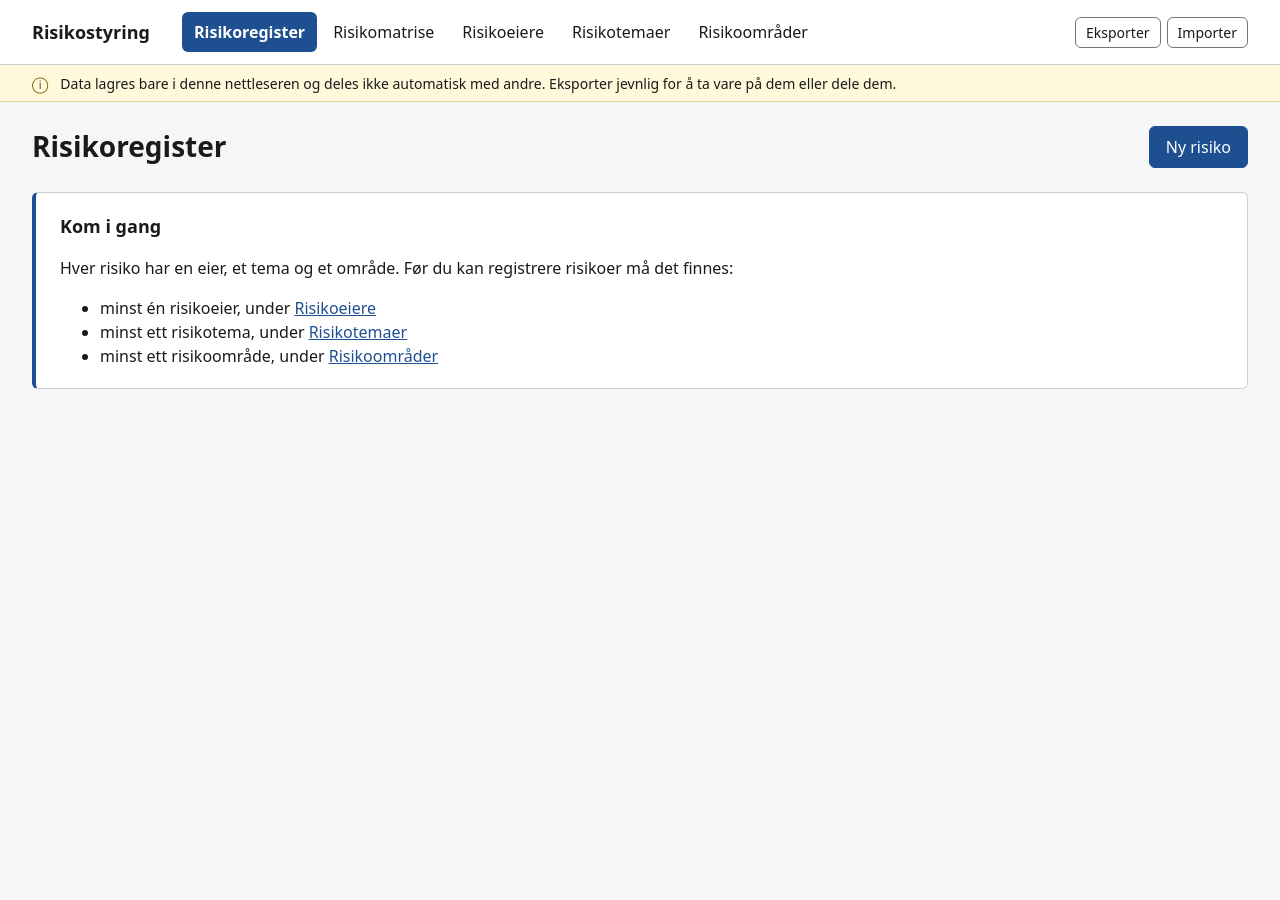
it: veiledning før første risiko (K22) › lukker forklaringen med «Lukk»
Expected: the heading "Risikoregister" is shown, [32,130,226,164]
Click the button "Ny risiko". click: [1198, 147]
box: [1149,126,1248,168]
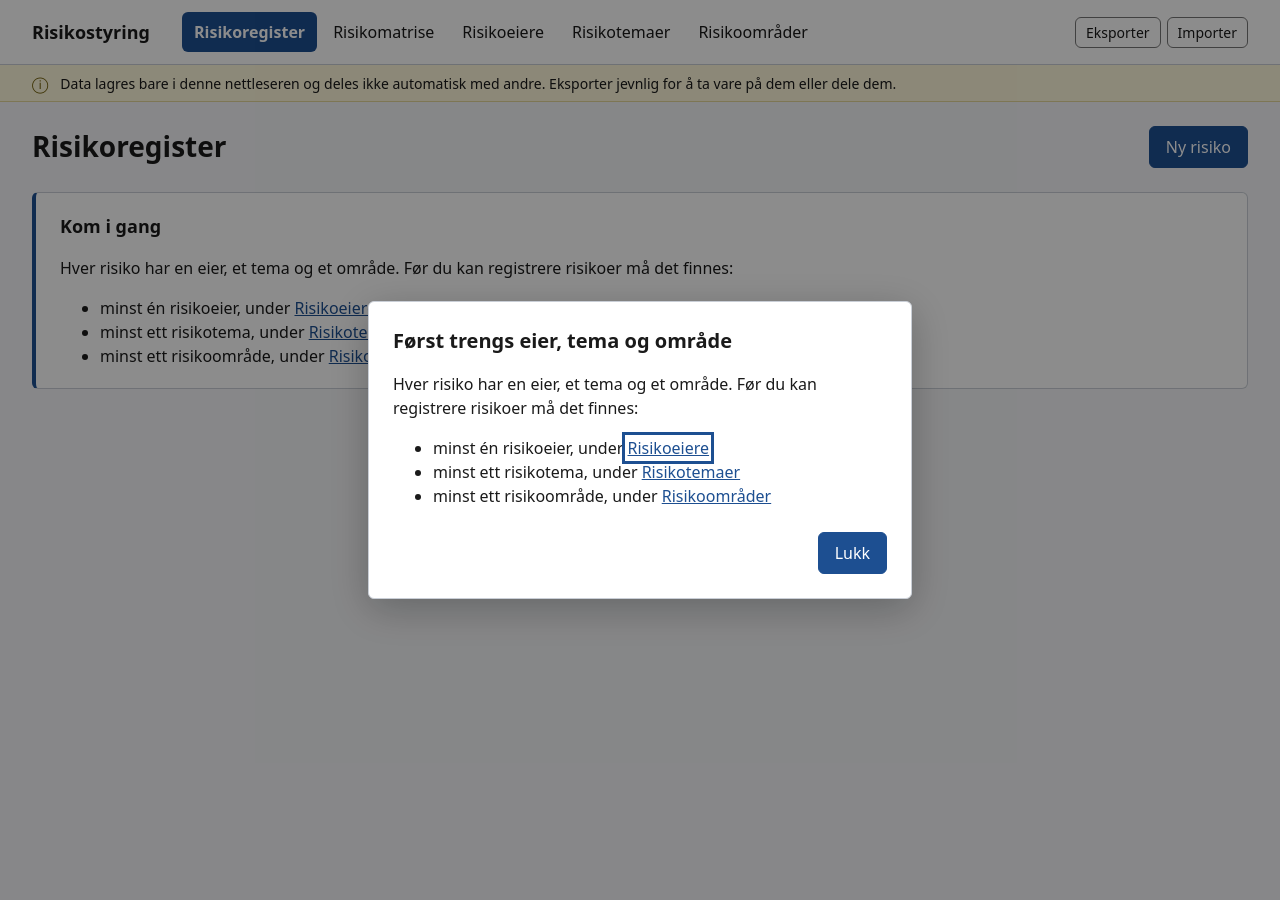
Click the button "Lukk". click: [852, 553]
box: [818,532,887,574]
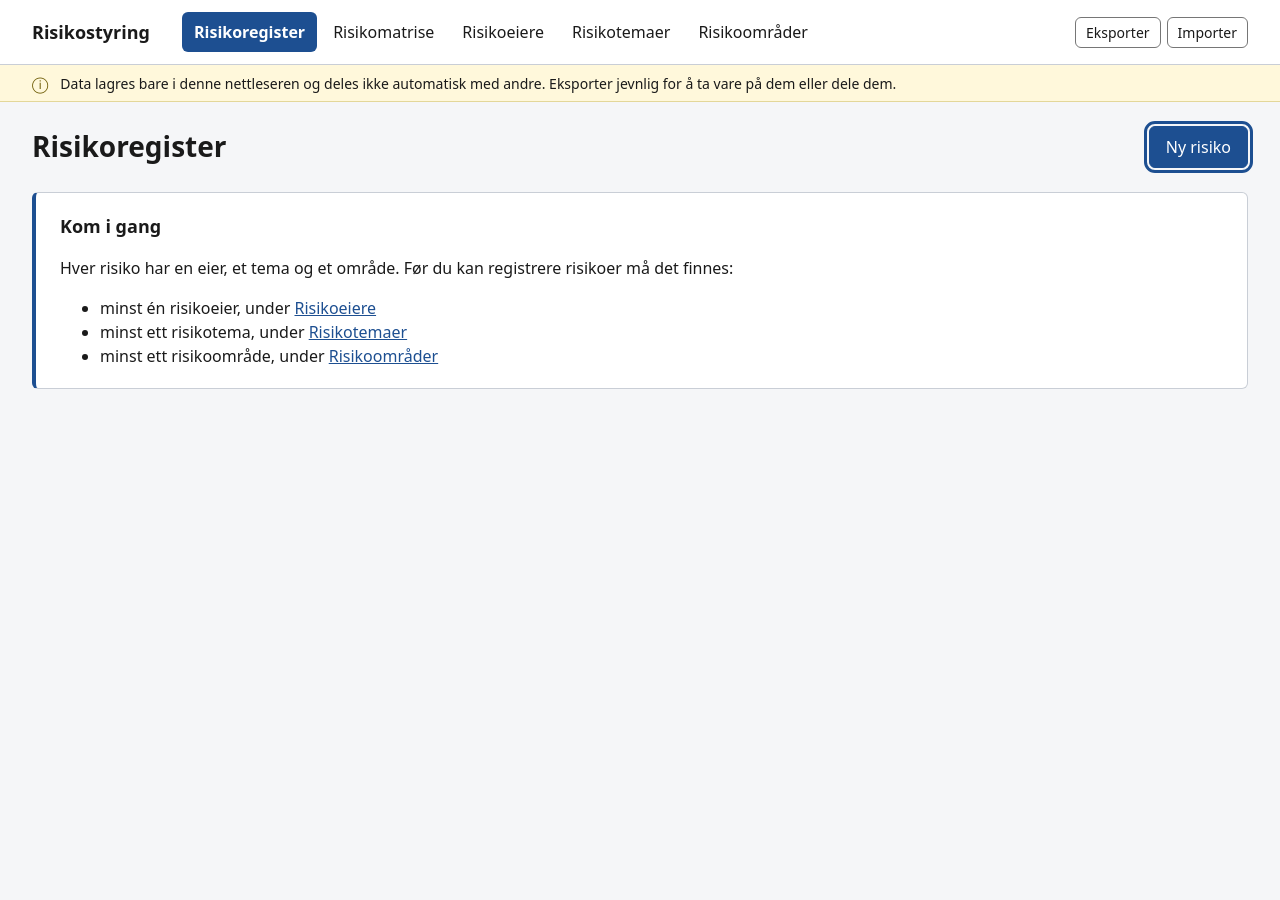
Result: the dialog is gone
